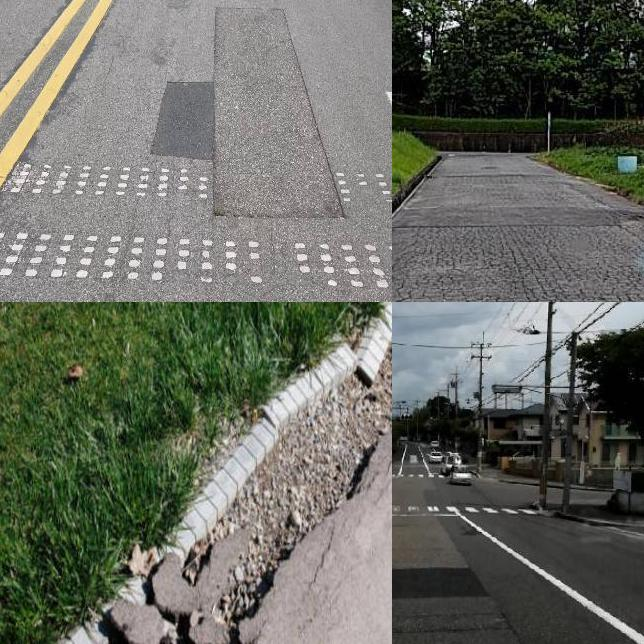Pinggir: (24, 302, 392, 644)
Retak Buaya: (392, 224, 644, 302)
Sambungan: (152, 9, 345, 219), (445, 529, 644, 644), (392, 568, 488, 598)
